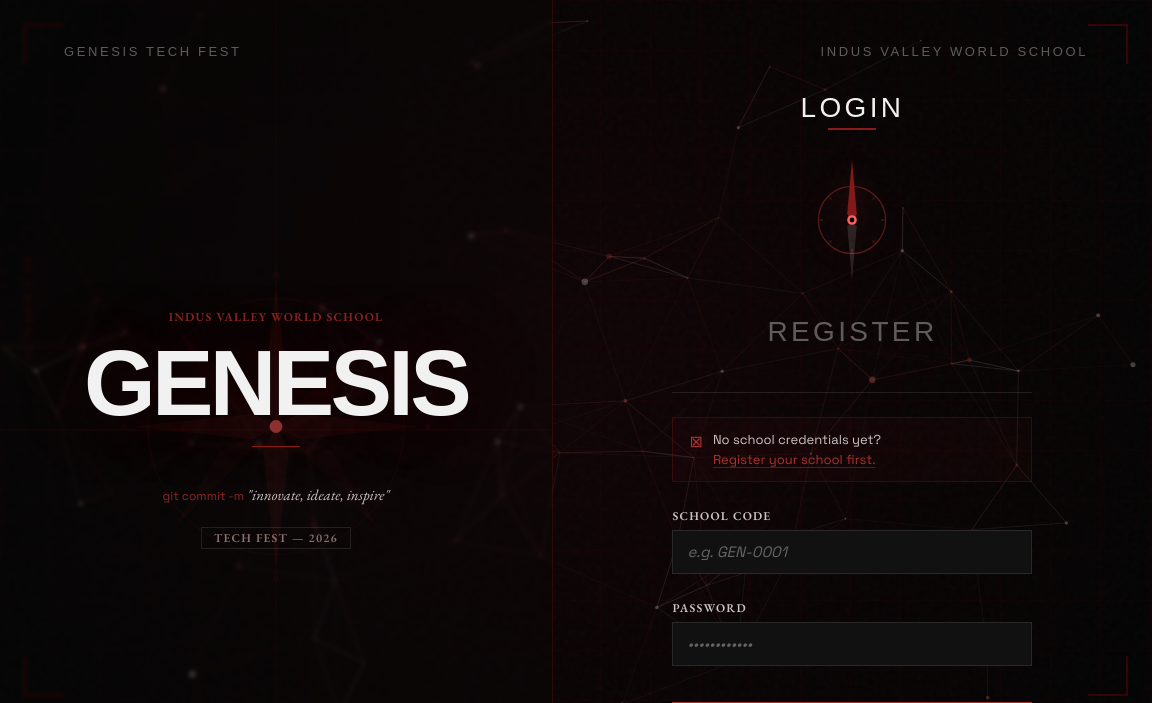
Test: LoginPage (Desktop) › switches to register mode and displays registration form
Click the button "REGISTER": (852, 332) 672,304 -> 1032,360
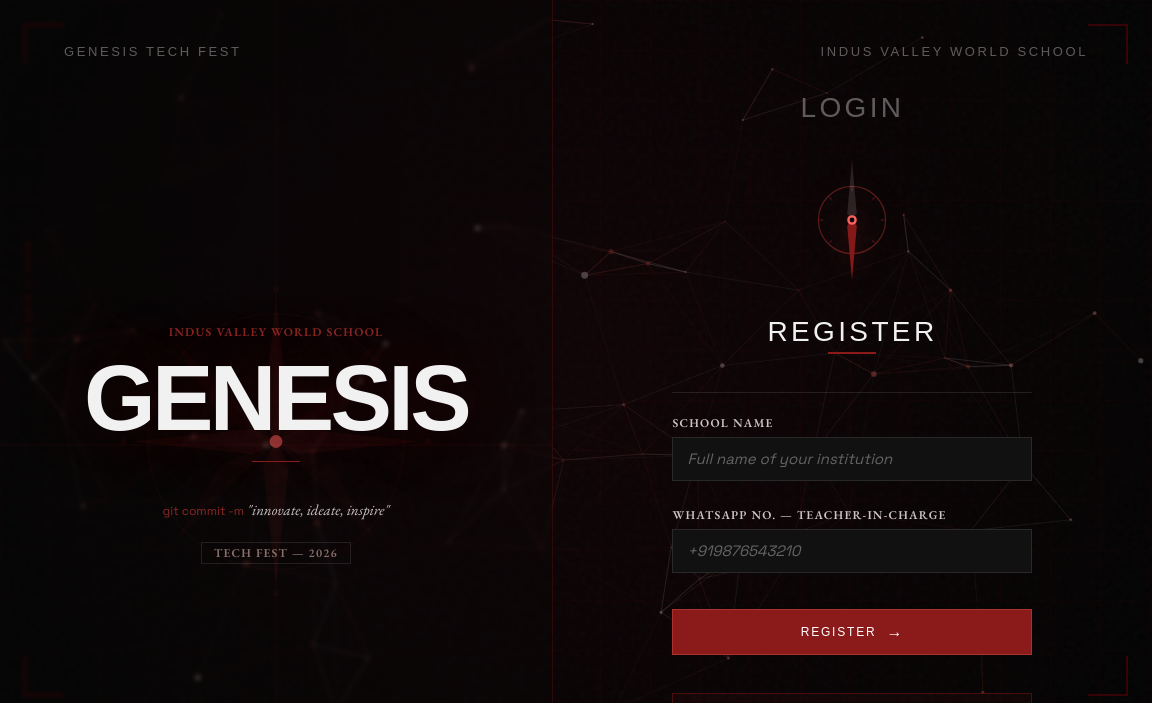
Expected: the field labelled "School Name" is shown, 672,437 -> 1032,481
Expected: the field labelled "WhatsApp No. — Teacher-in-Charge" is shown, 672,529 -> 1032,573
